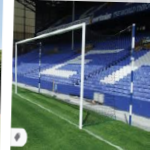goals: (15, 20, 116, 131)
